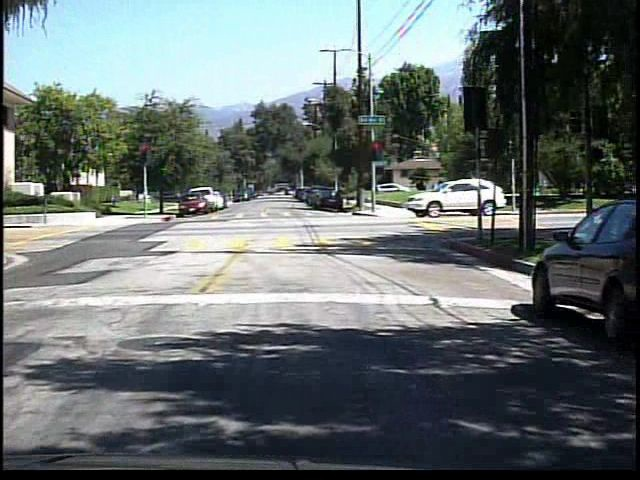person: (433, 174, 448, 193)
